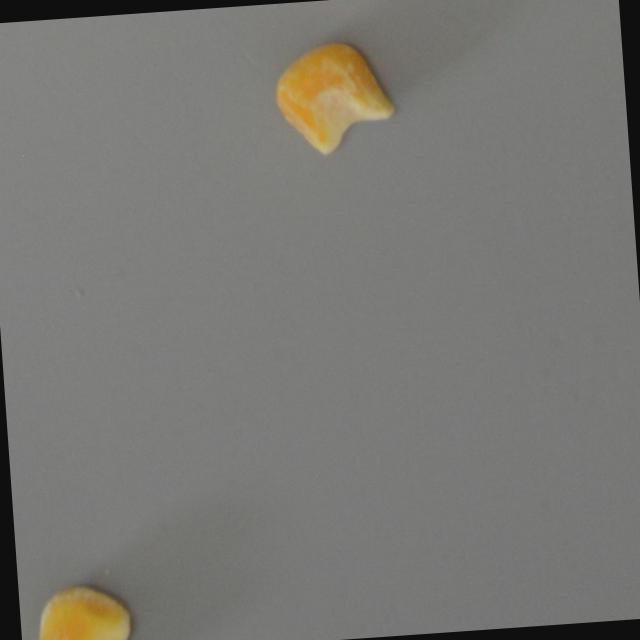pelicula: (266, 29, 402, 159), (18, 573, 135, 640)
